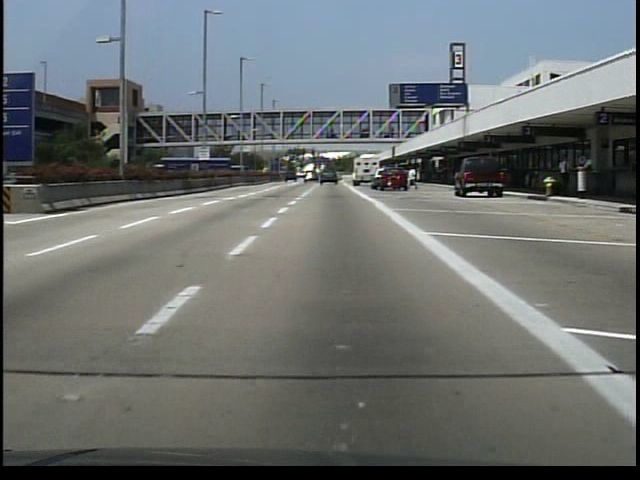person: (553, 153, 575, 200), (406, 168, 421, 191)
